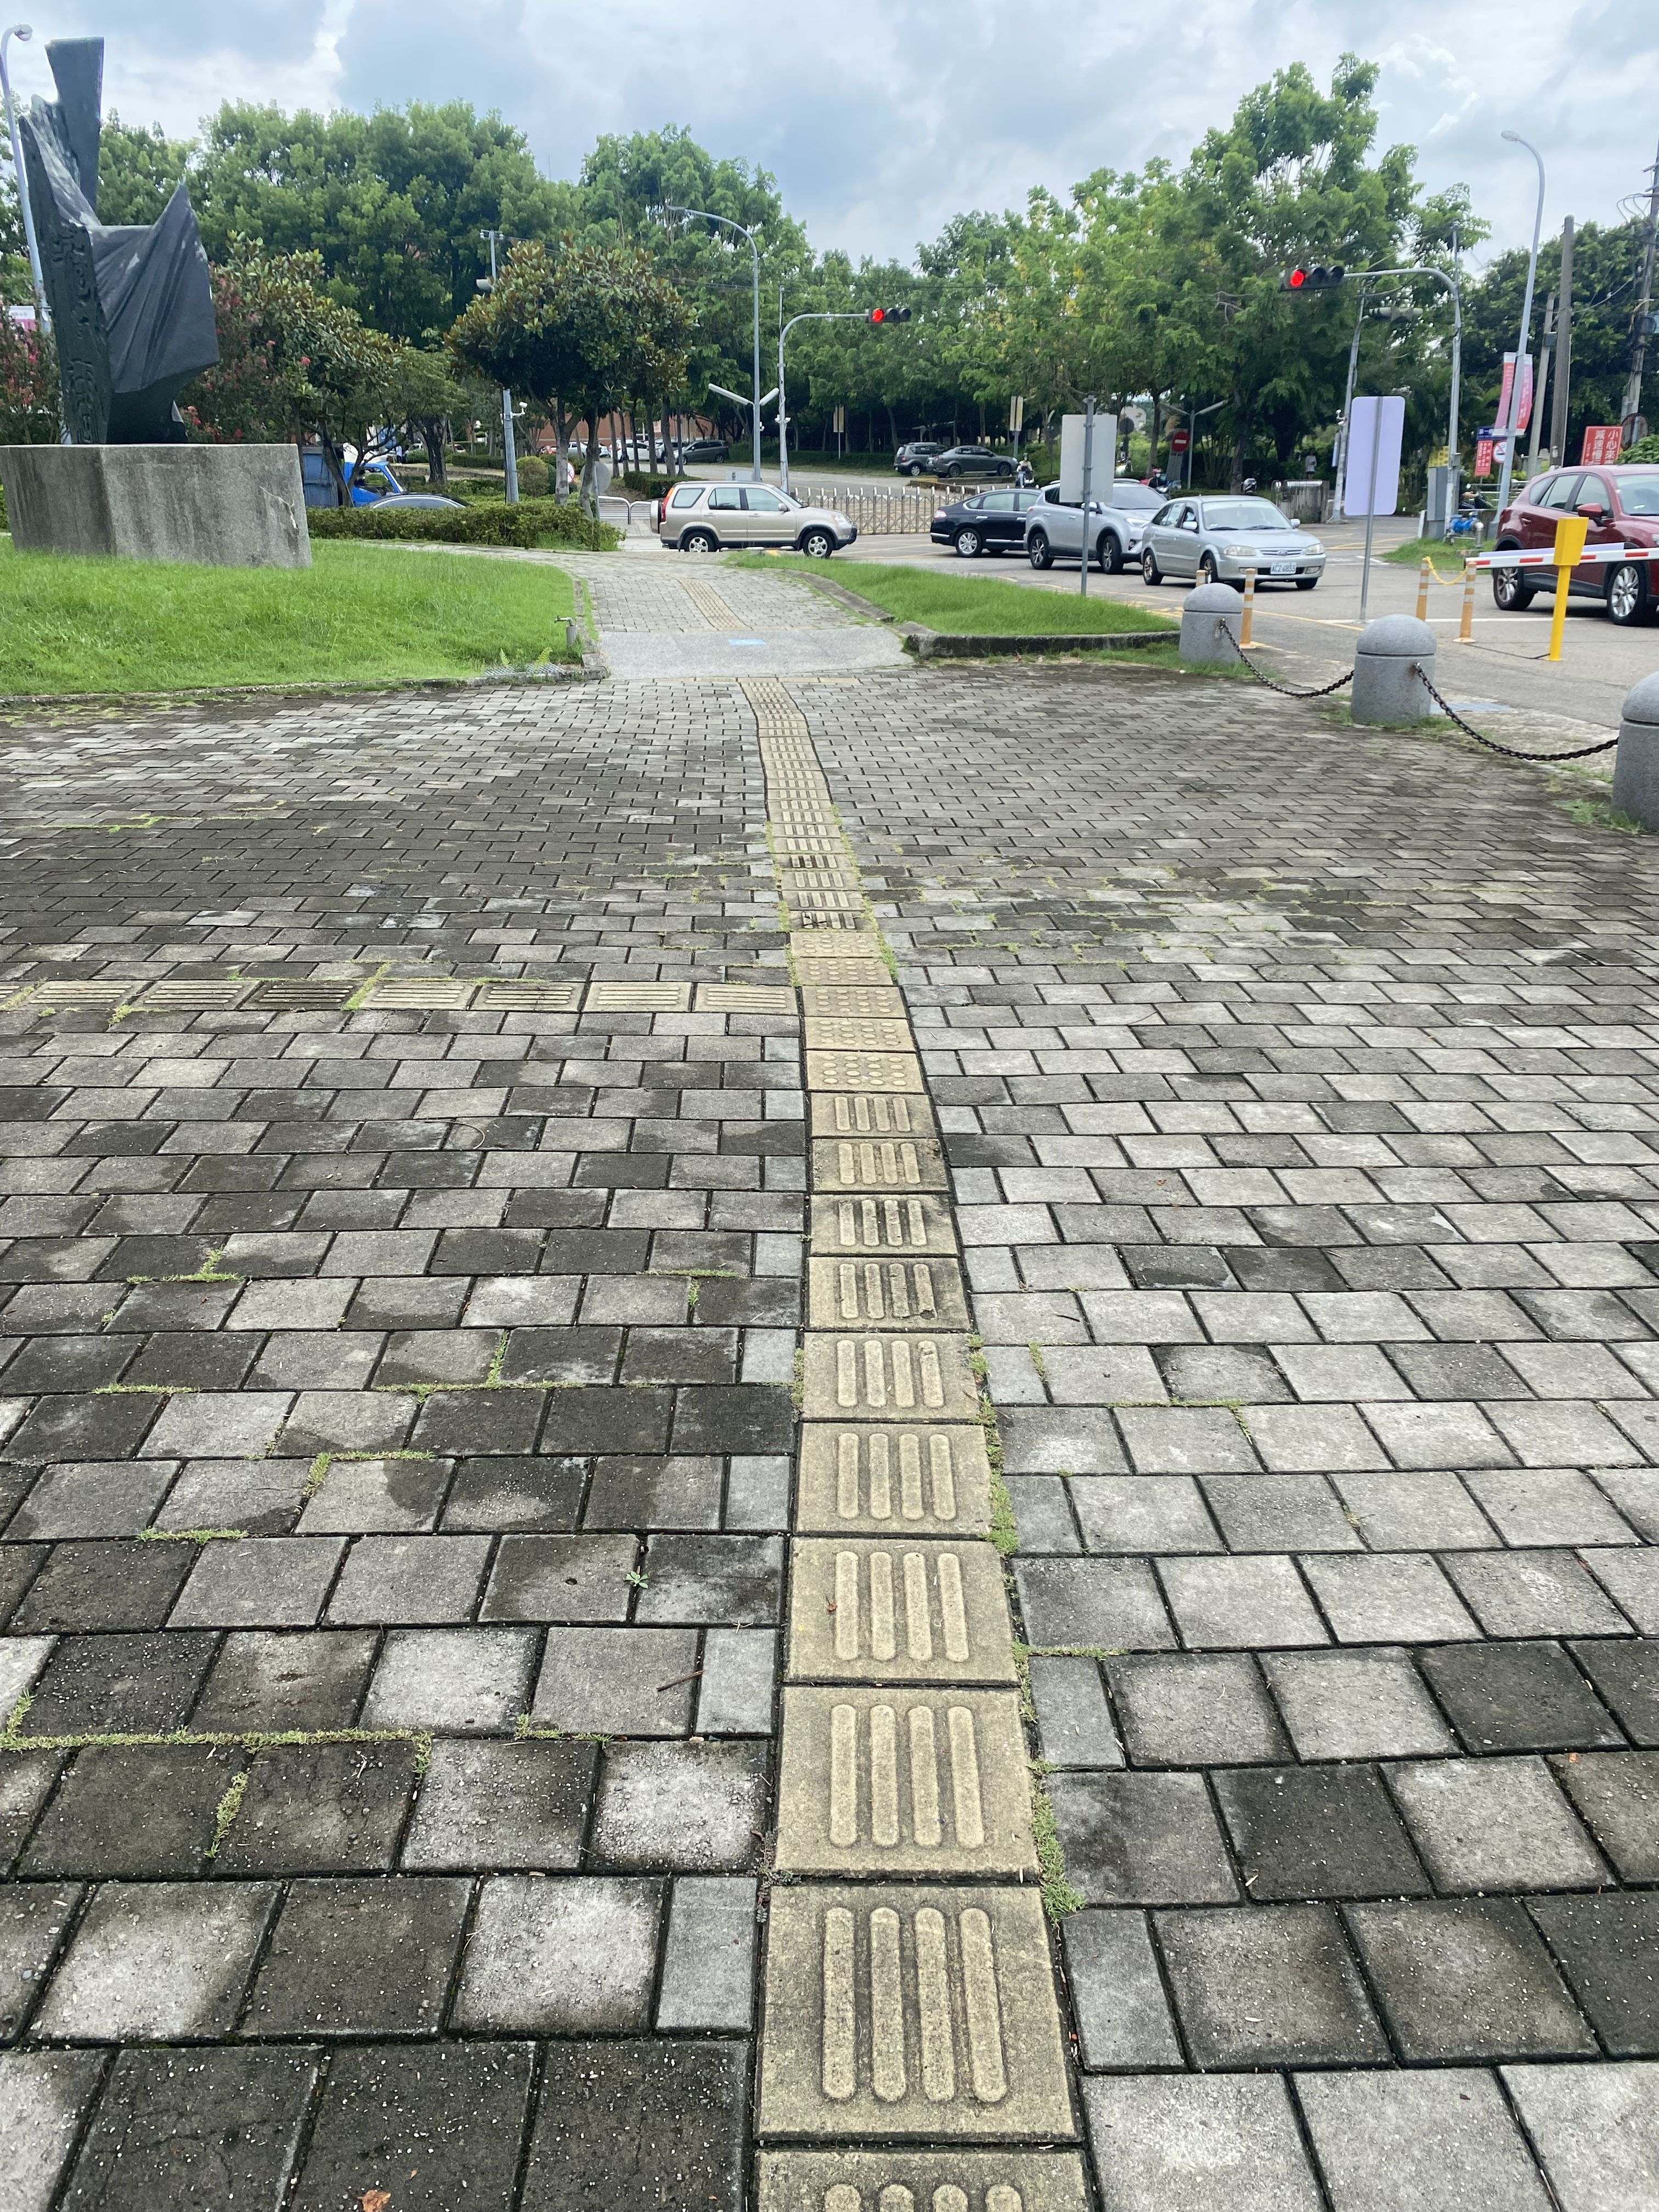0: (490, 528, 945, 718)
sidewalk: (12, 700, 1659, 2212)
